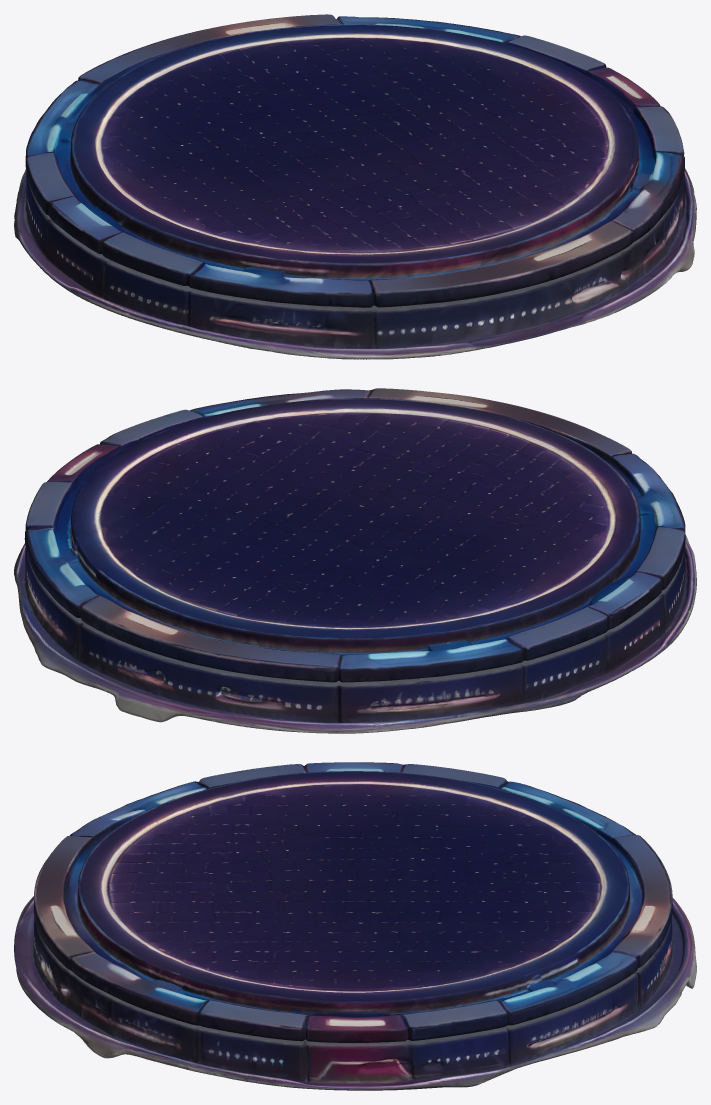
Rendered from platform.glb.
3 views of the same model, one above another, from view 1: azimuth 30°, elevation 25°; view 2: azimuth 150°, elevation 25°; view 3: azimuth 270°, elevation 25° (orthographic). The views are drawn at different scales.
Parts seen in each view (by area): view 1: tripo_node_a9c15dcb-e1a5-4a40-ae97-0c587edf7d46; view 2: tripo_node_a9c15dcb-e1a5-4a40-ae97-0c587edf7d46; view 3: tripo_node_a9c15dcb-e1a5-4a40-ae97-0c587edf7d46.
Boxes of the visible parts, bbox=[...] form: tripo_node_a9c15dcb-e1a5-4a40-ae97-0c587edf7d46: bbox=[14, 14, 696, 359]; tripo_node_a9c15dcb-e1a5-4a40-ae97-0c587edf7d46: bbox=[14, 388, 696, 733]; tripo_node_a9c15dcb-e1a5-4a40-ae97-0c587edf7d46: bbox=[14, 762, 696, 1090].
Size of the model in its own units: 0.9751 by 0.1222 by 0.9999.
Materials: 1 (1 with a texture image).
